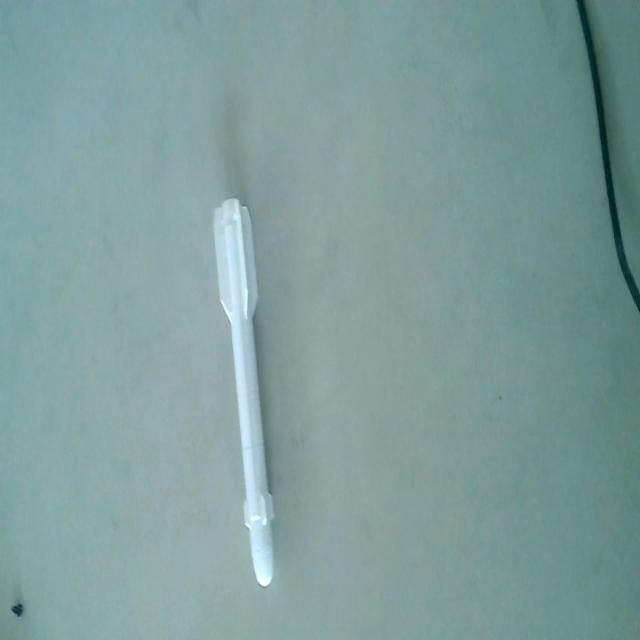Rocket: (210, 192, 282, 598)
